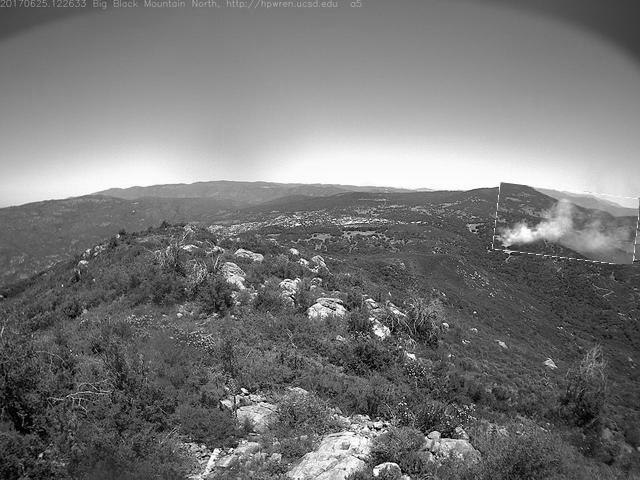smoke: (495, 187, 640, 262)
